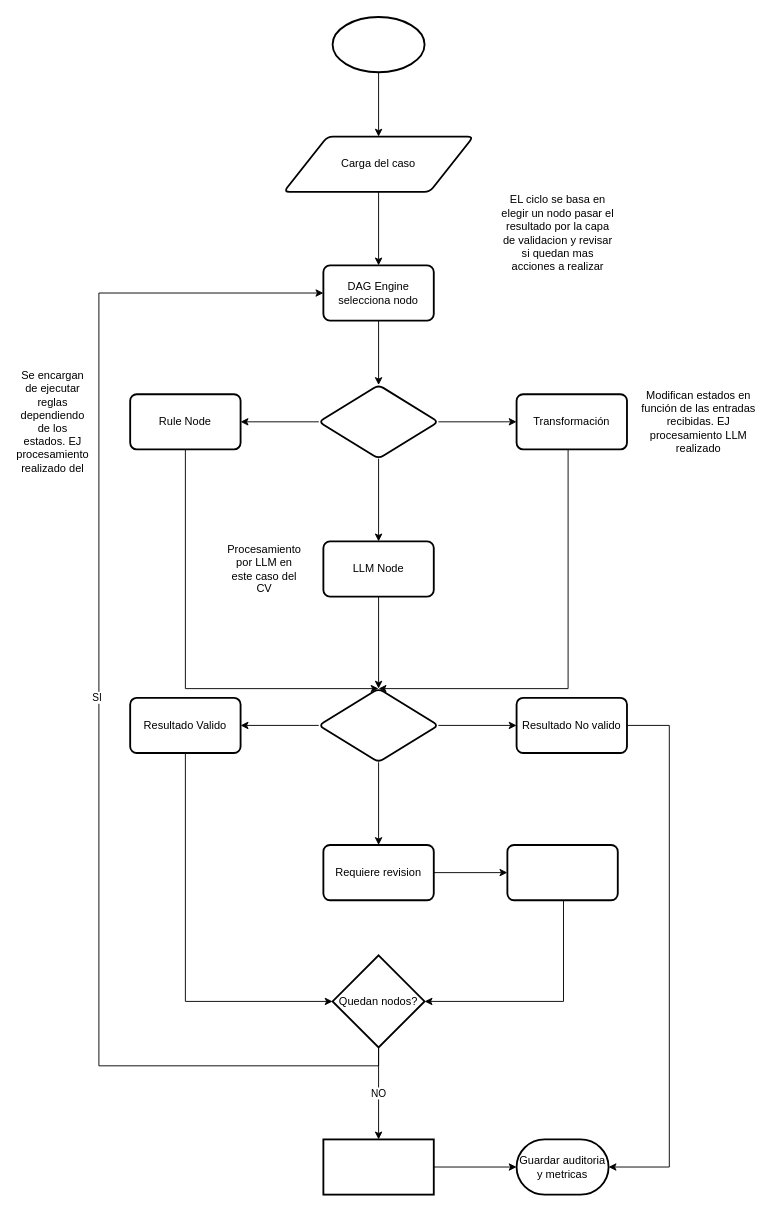
Some shapes in this 774 by 1211 pixel diagram are drawn without their labels. Each missing label, with the box of its shape:
Decision final: (322, 1138, 434, 1195)
Human Escalation: (506, 844, 618, 901)
Inicio Introducción: (331, 16, 425, 73)
Que tipo nodo es: (317, 384, 439, 459)
Validation layer: (317, 687, 439, 763)
